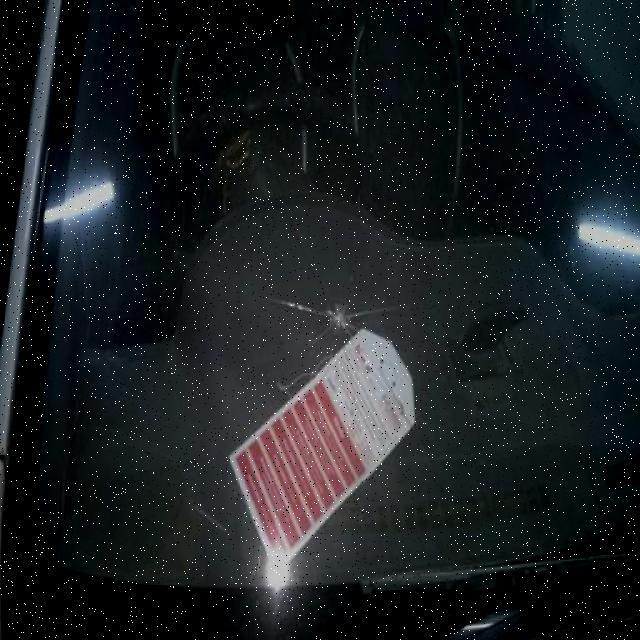car damage: (301, 276, 371, 356)
